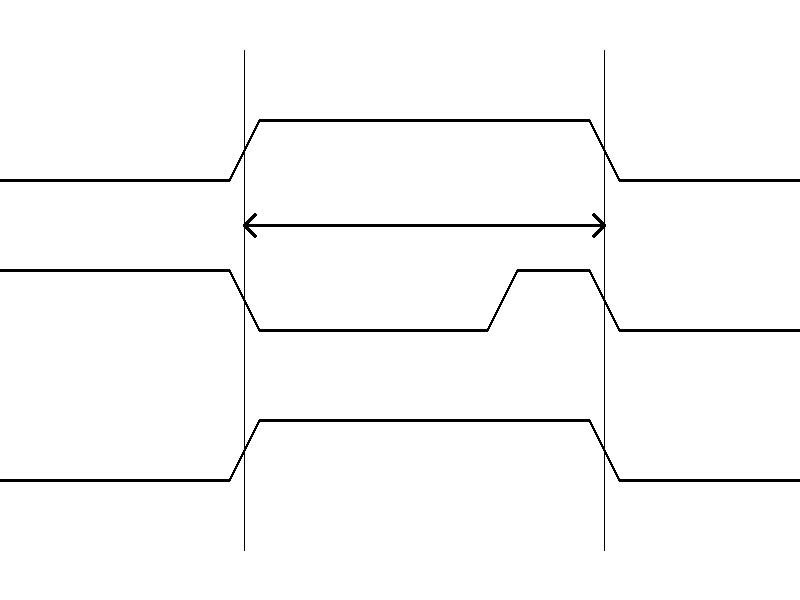double_arrow: (244, 210, 604, 240)
